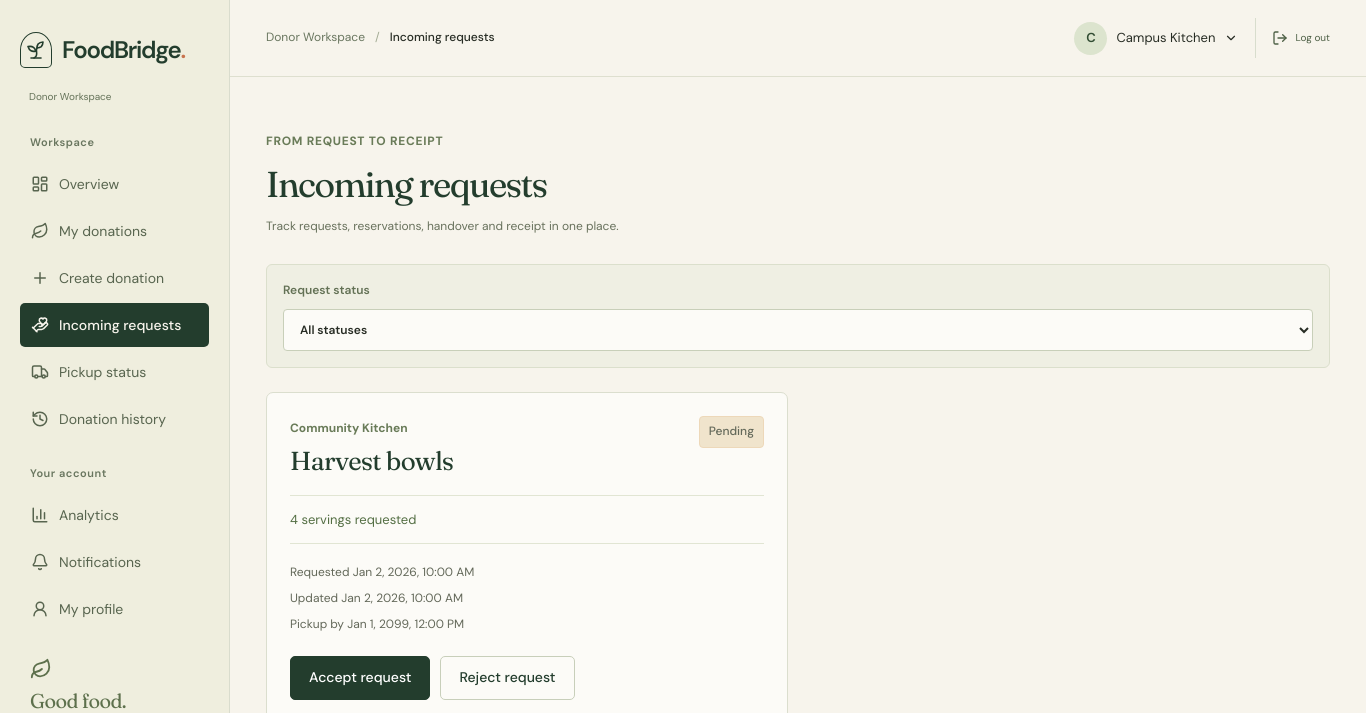
Test: donor operational workspace › reports request mutation success while keeping the existing action payload
This screenshot has width=1366, height=713.
Click the button "Accept request" at [360, 678], box [290, 656, 430, 700]
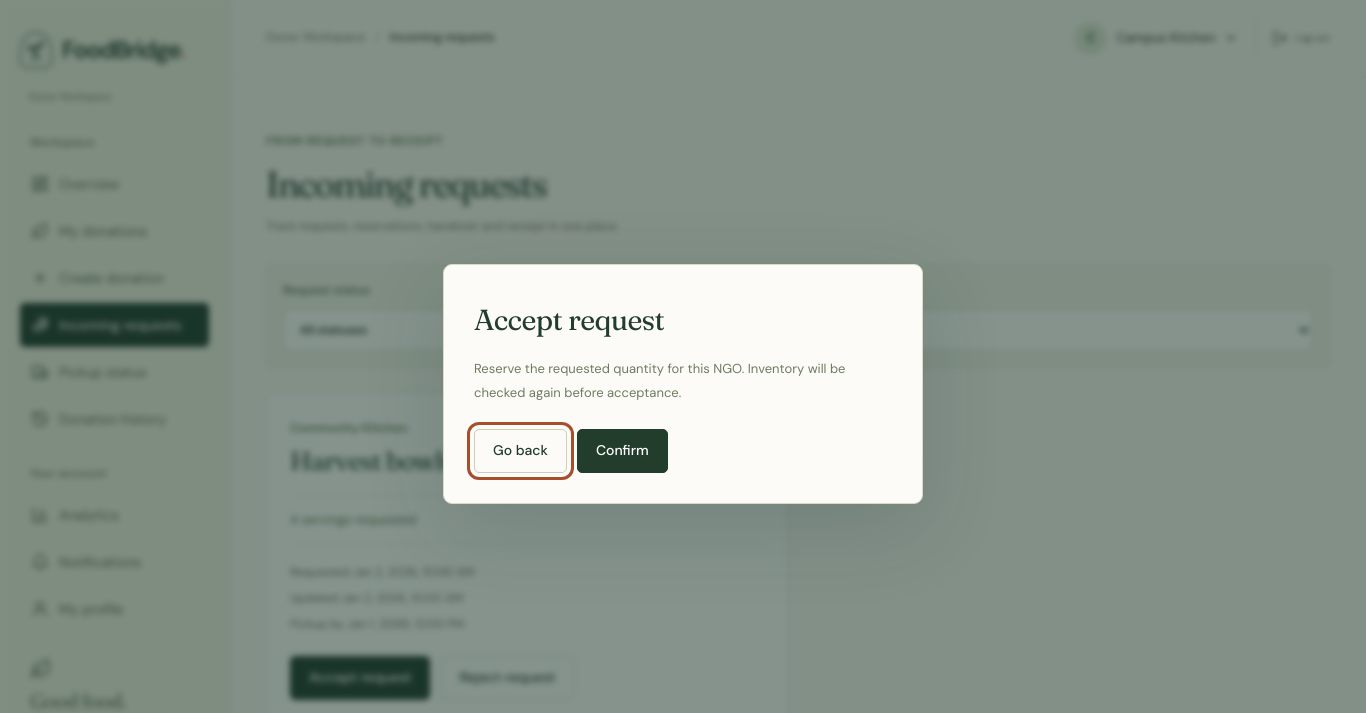
Click the button "Confirm" at [622, 451], box [577, 429, 668, 473]
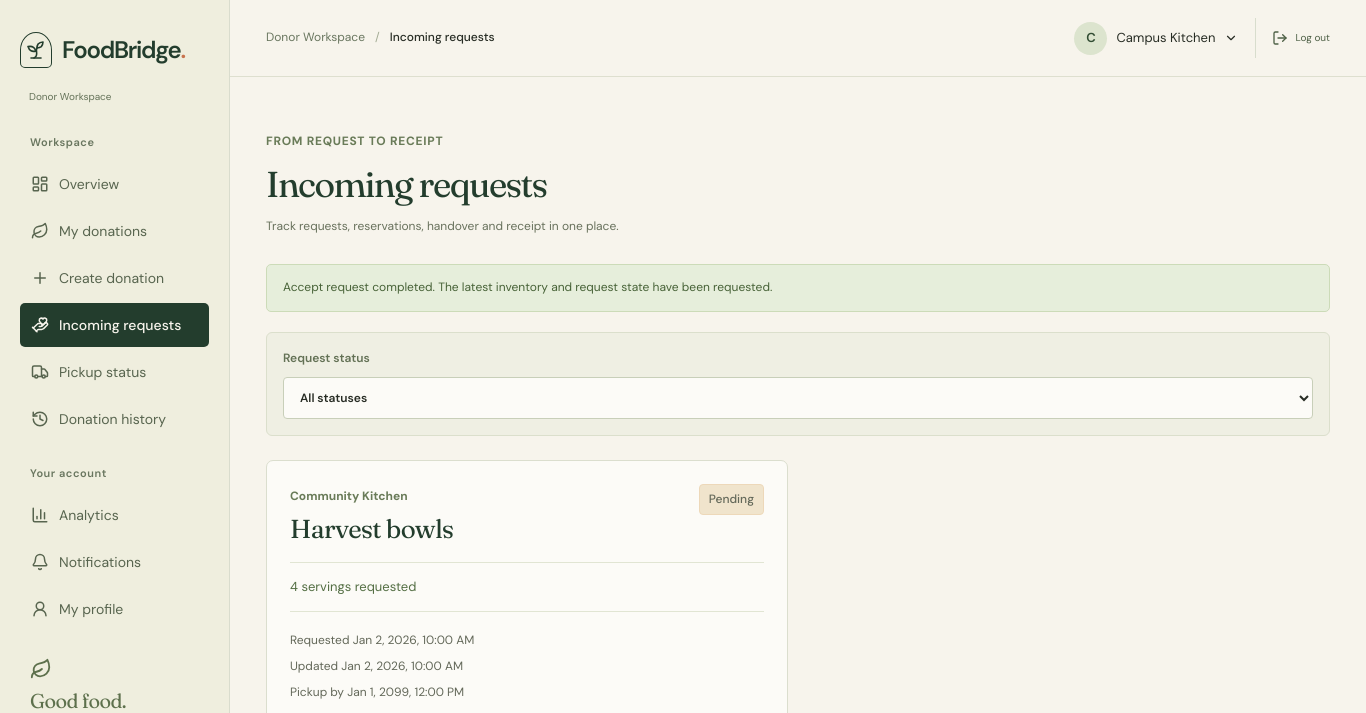
Expected: the message shows "Accept request completed", [283, 279, 772, 295]
